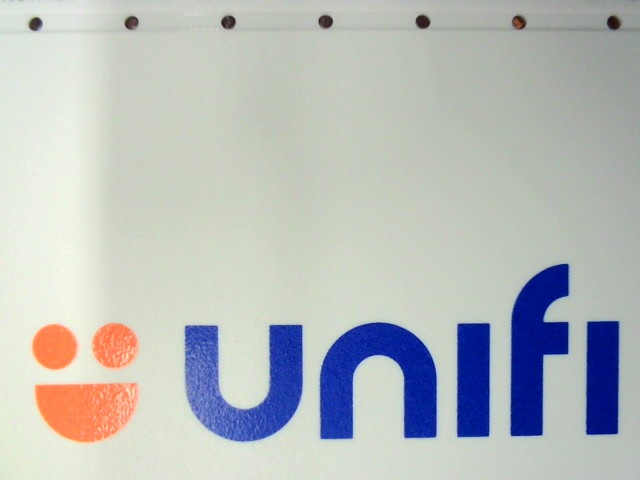BN_unifi: (37, 257, 631, 450)
